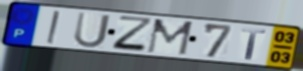7: (203, 22, 235, 59)
I: (45, 10, 62, 46)
M: (145, 18, 196, 57)
T: (240, 27, 268, 61)
U: (72, 11, 112, 49)
Z: (110, 15, 156, 54)
